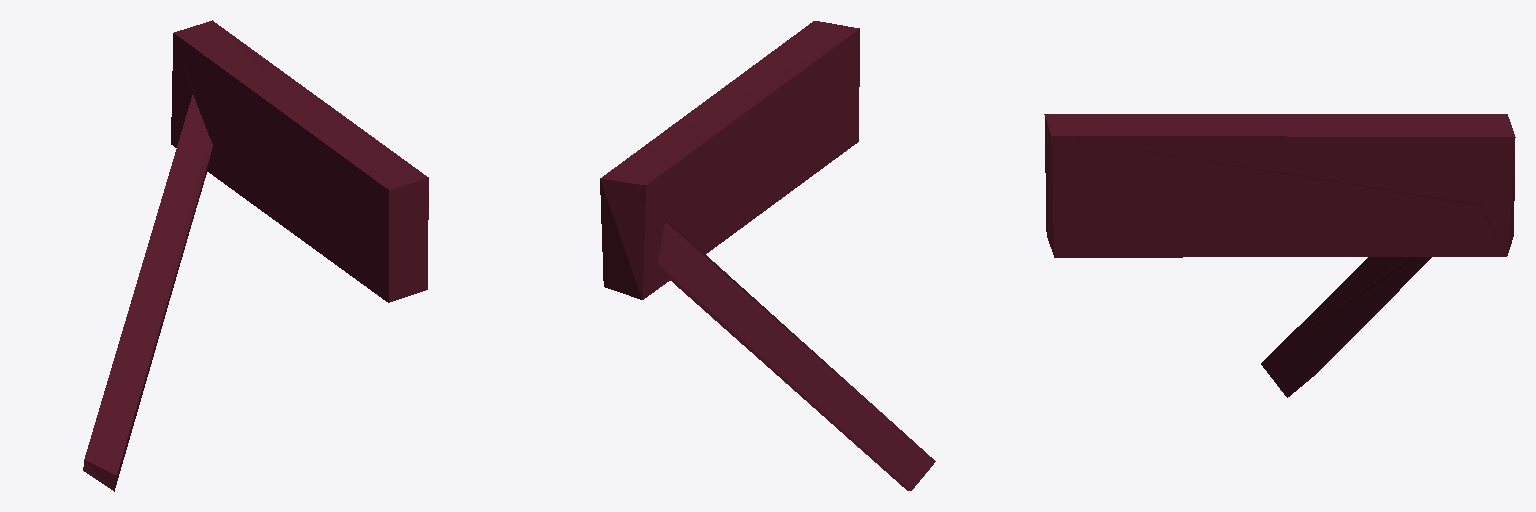
URDF robot description (blob531):

<robot name="blob531">
  <link name="random_obj_531">
    <contact>
      <lateral_friction value="1.0"/>
      <rolling_friction value="0.0"/>
      <inertia_scaling value="3.0"/>
      <contact_cfm value="0.0"/>
      <contact_erp value="1.0"/>
    </contact>
    <inertial>
      <origin rpy="0 0 0" xyz="0 0 0"/>
      <mass value="0.1066"/>
      <inertia ixx="1" ixy="0" ixz="0" iyy="1" iyz="0" izz="0"/>
    </inertial>
    <visual>
      <origin rpy="0 0 0" xyz="0 0 0"/>
      <geometry>
        <mesh filename="531.obj" scale="0.0091 0.0091 0.0091"/>
      </geometry>
      <material name="blockmat">
        <color rgba="0.38 0.14 0.21 1"/>
      </material>
    </visual>
    <collision>
      <origin rpy="0 0 0" xyz="0 0 0"/>
      <geometry>
        <mesh filename="531_coll.obj" scale="0.0091 0.0091 0.0091"/>
      </geometry>
    </collision>
  </link>
</robot>

--- What the picture shows (computed from the rendered views, not written in the file) ---
Views: 3 orthographic renders of the robot side by side, from view 1: azimuth 30°, elevation 25°; view 2: azimuth 150°, elevation 25°; view 3: azimuth 270°, elevation 25°.
Model blob531 with 1 links and 0 joints (none), rooted at random_obj_531, posed all joints at 0.
Links seen in each view (by area): view 1: random_obj_531; view 2: random_obj_531; view 3: random_obj_531.
Link boxes in pixels (box(x1,y1,x2,y2)): random_obj_531: box(83, 20, 428, 491); random_obj_531: box(600, 21, 935, 490); random_obj_531: box(1044, 114, 1515, 397).
Size in the robot's own frame: 0.0684 by 0.1112 by 0.0963 metres.
1 mesh visuals loaded from 1 distinct referenced files (1 OBJ).
